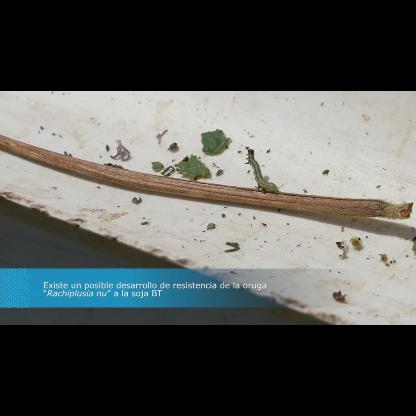oruga: (242, 146, 282, 196)
